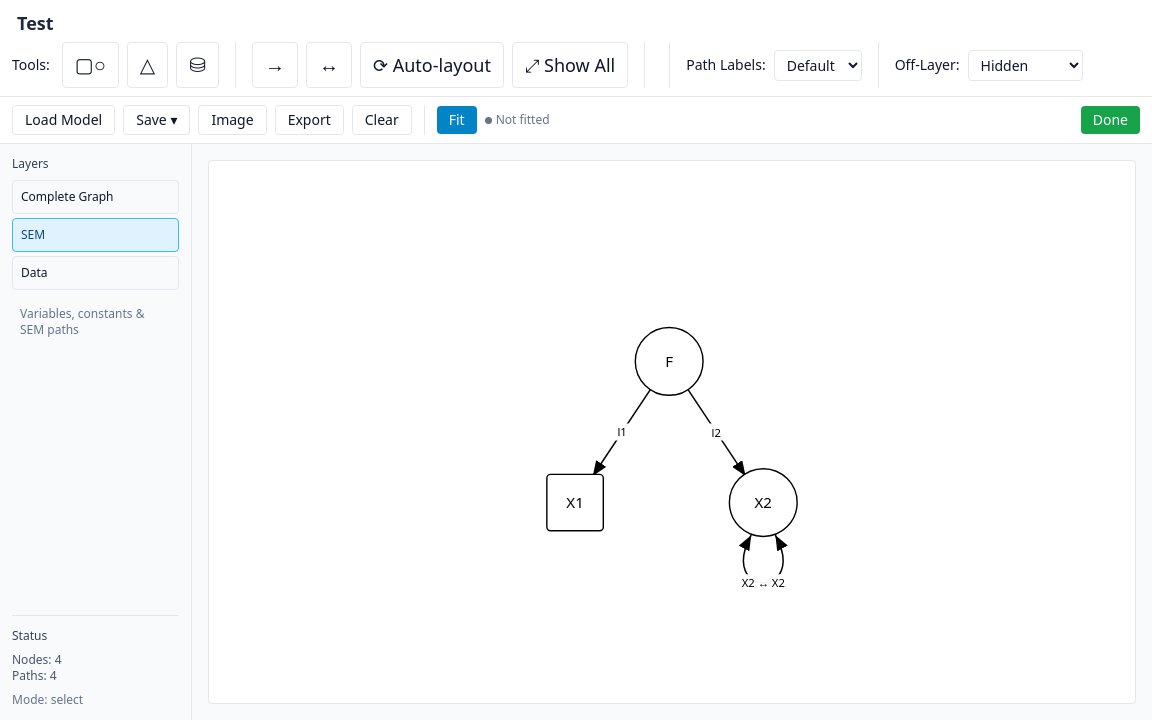
select all and Escape › Cmd/Ctrl+A selects everything in the active layer
This screenshot has width=1152, height=720.
Check: the text "X2" is shown, box [755,492,772,512]
Press a in the element that starts with "Tools:"
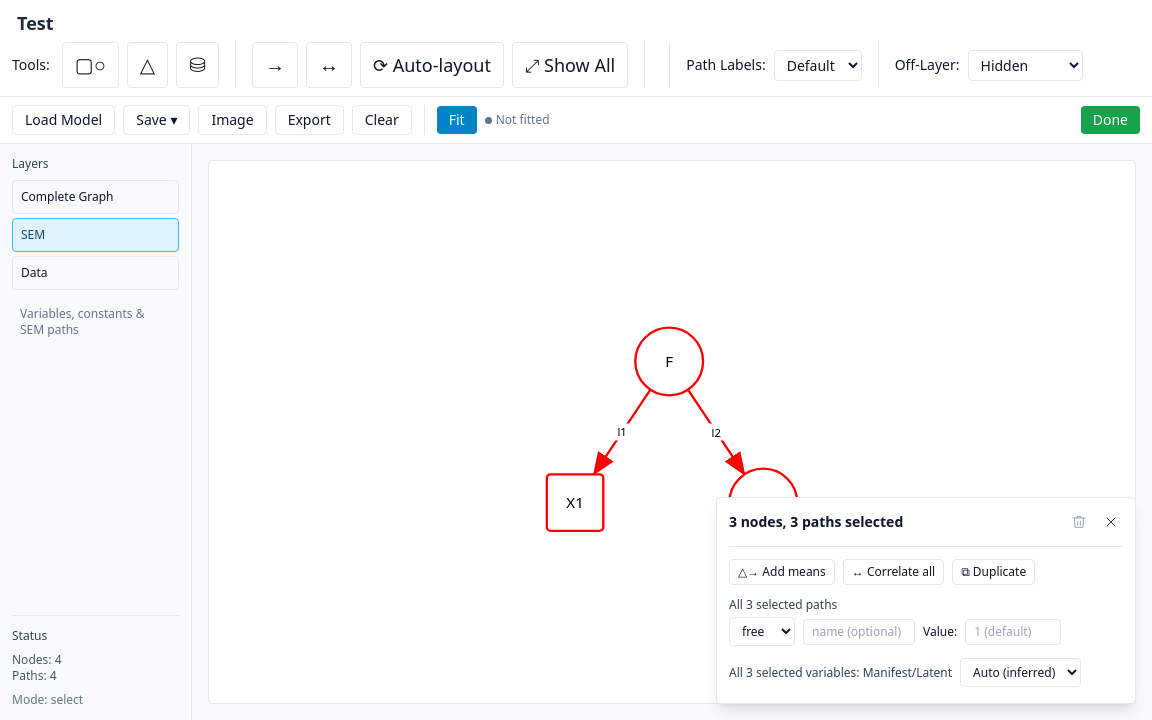
Check: the text with test id "selection-summary" reads "3 nodes, 3 paths selected", box [729,512,903,531]
Click the button "Complete Graph" at (96, 197), box [12,180,179,214]
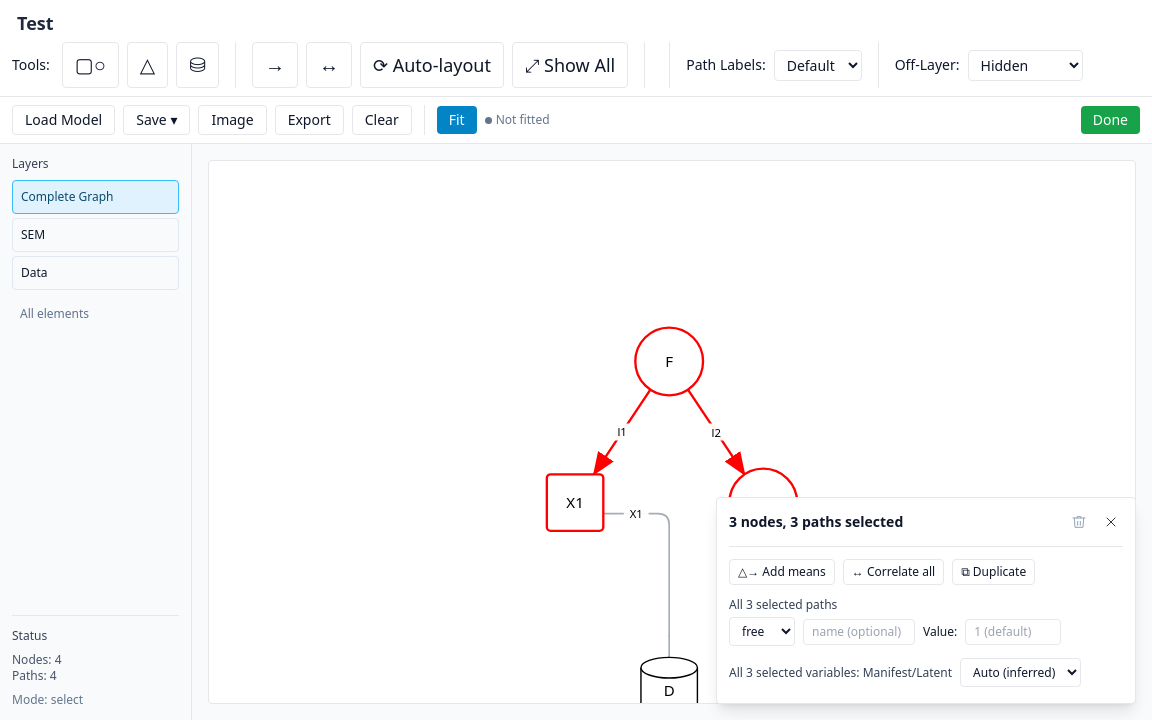
Press a in the element that starts with "Tools:"
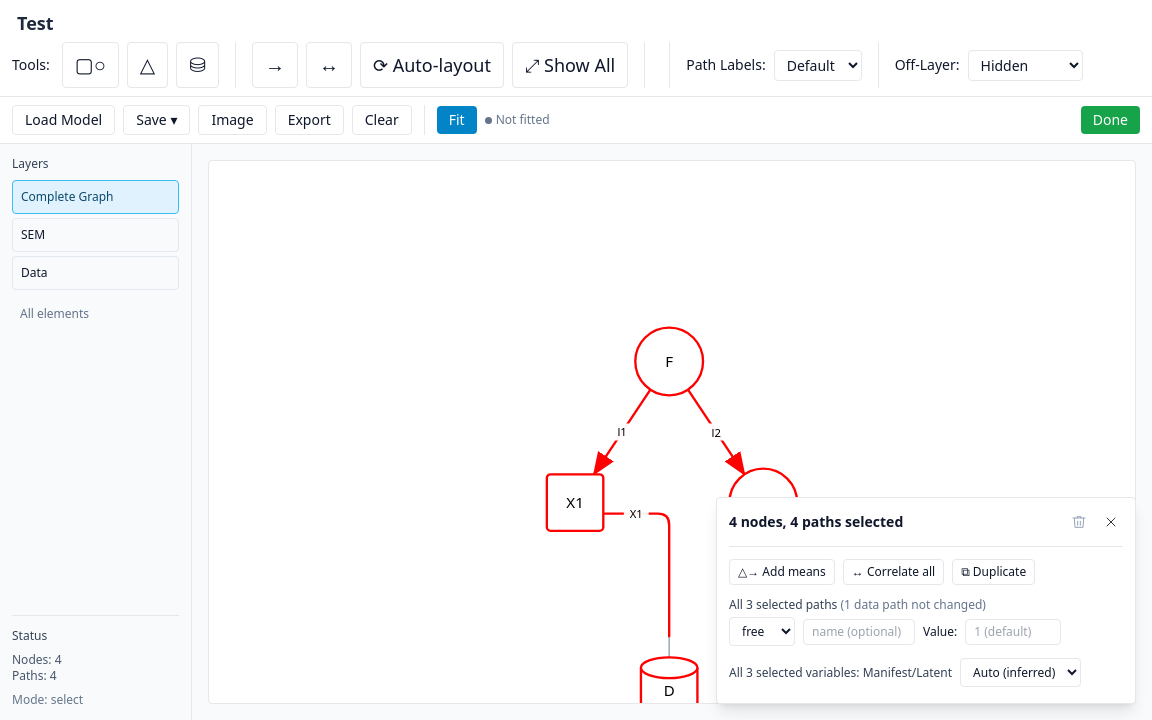
Check: the text with test id "selection-summary" reads "4 nodes, 4 paths selected", box [729,512,903,531]
